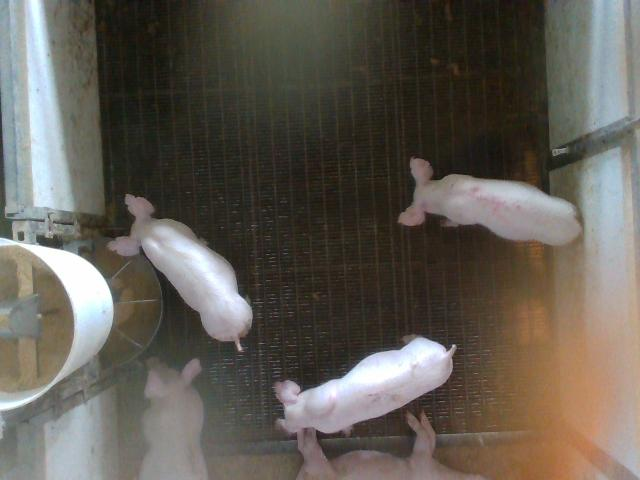pig-5: (398, 158, 581, 244)
